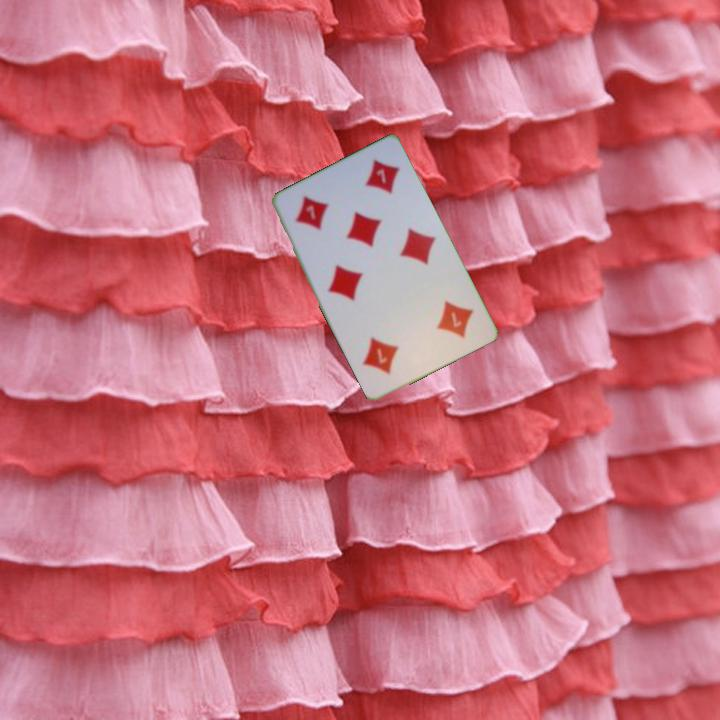d_7.png: (278, 174, 362, 254), (403, 282, 487, 362)
